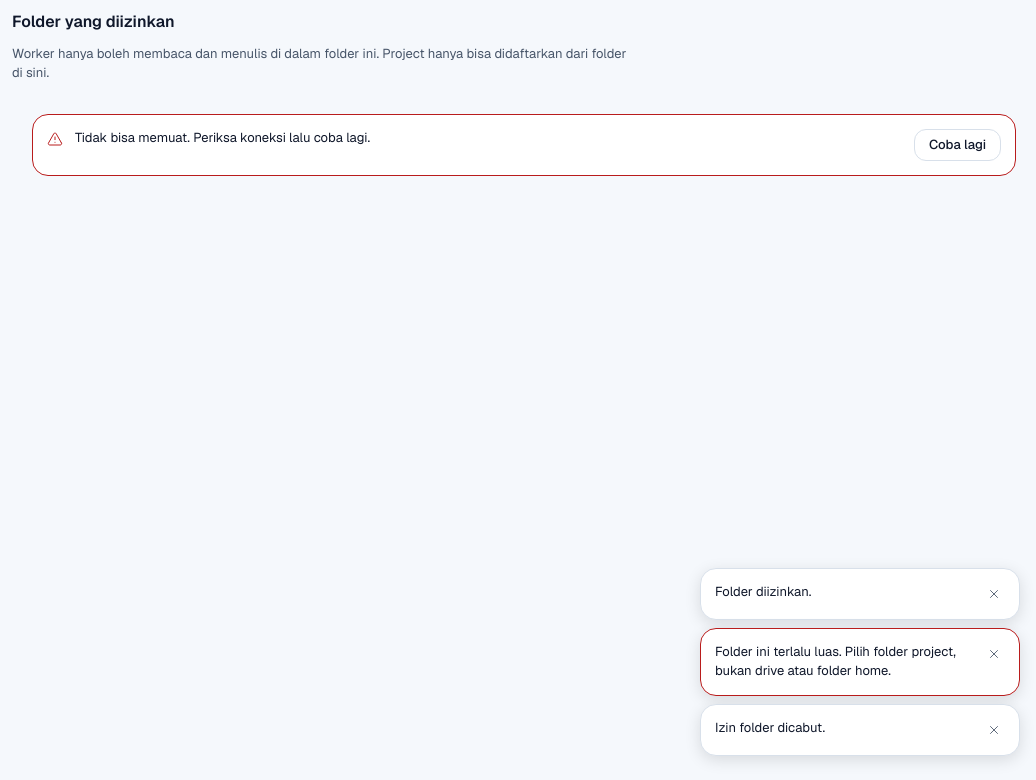
Test: AllowedFolders › gagal memuat daftar: error dengan Coba lagi
Check: the message shows "Tidak bisa memuat. Periksa koneksi lalu coba lagi.", box [75,130,370,146]
Click the button "Coba lagi" at (957, 146), box [914,130,1001,162]
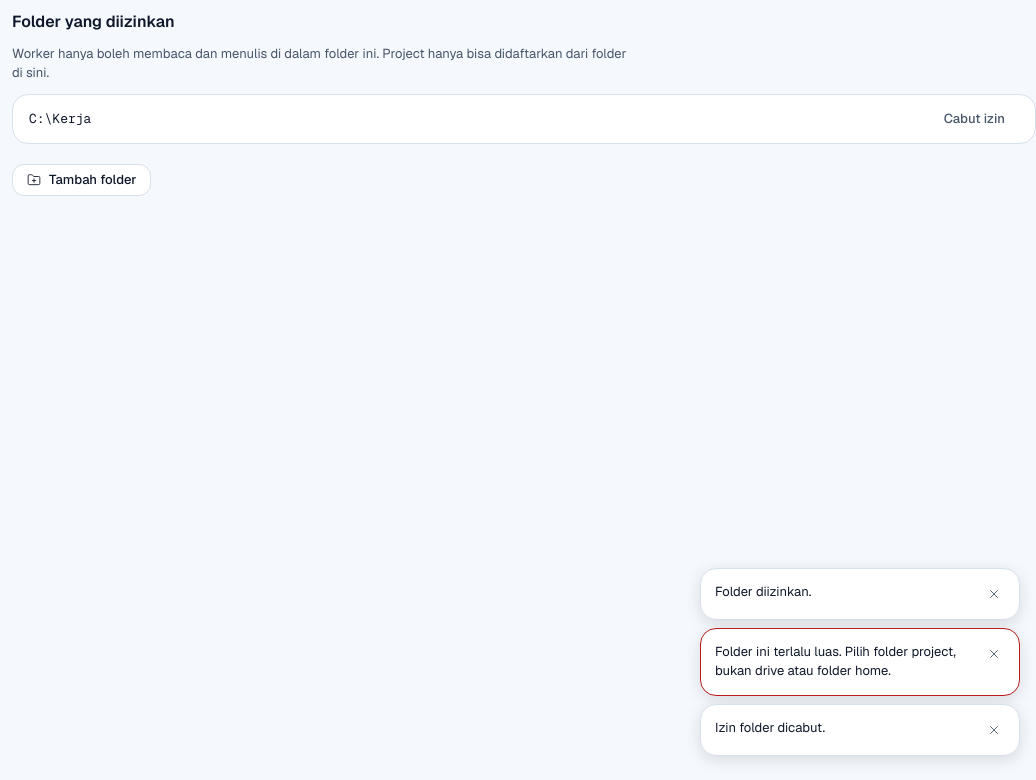
Check: the text "C:\\Kerja" is shown, box [29,110,91,129]
